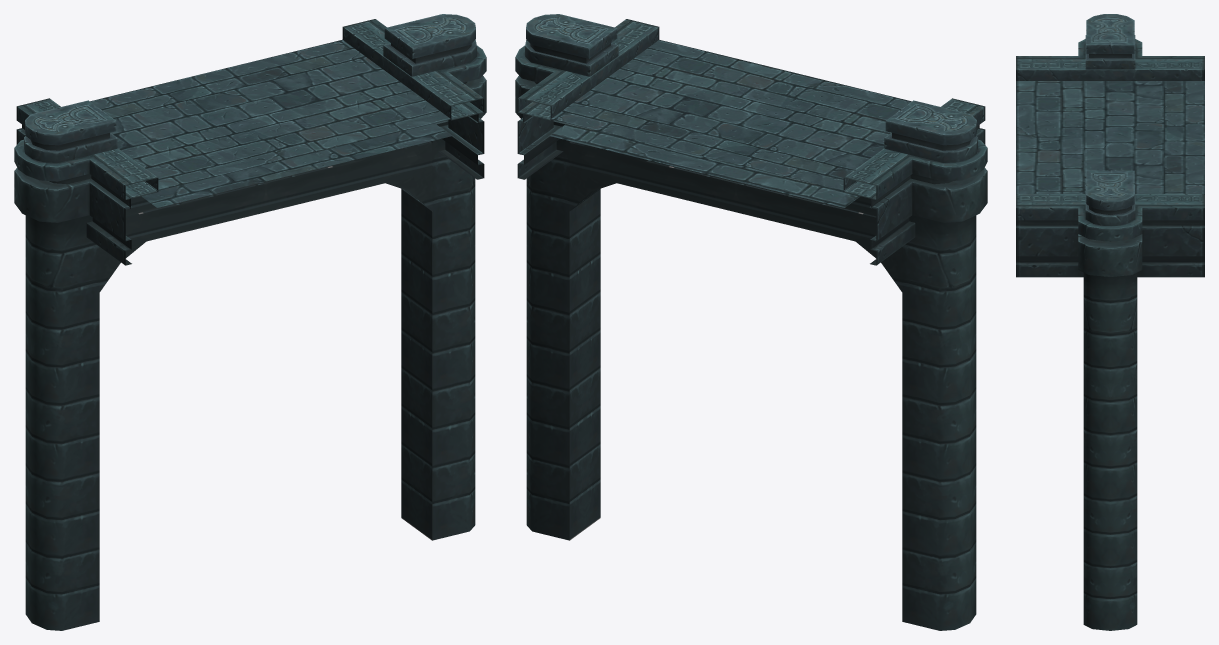
File: Stage_DiXiaCheng_Qiao02.FBX
3 renders of one model, left to right at view 1: azimuth 30°, elevation 25°; view 2: azimuth 150°, elevation 25°; view 3: azimuth 270°, elevation 25°, orthographic. The views are drawn at different scales.
Visible parts, largest first — view 1: Stage_DiXiaCheng_Qiao02; view 2: Stage_DiXiaCheng_Qiao02; view 3: Stage_DiXiaCheng_Qiao02.
Boxes of the visible parts, <box> form: Stage_DiXiaCheng_Qiao02: <box>14,14,486,630</box>; Stage_DiXiaCheng_Qiao02: <box>515,14,987,630</box>; Stage_DiXiaCheng_Qiao02: <box>1016,14,1204,630</box>.
Size of the model in its own units: 1439 by 1492 by 594.
